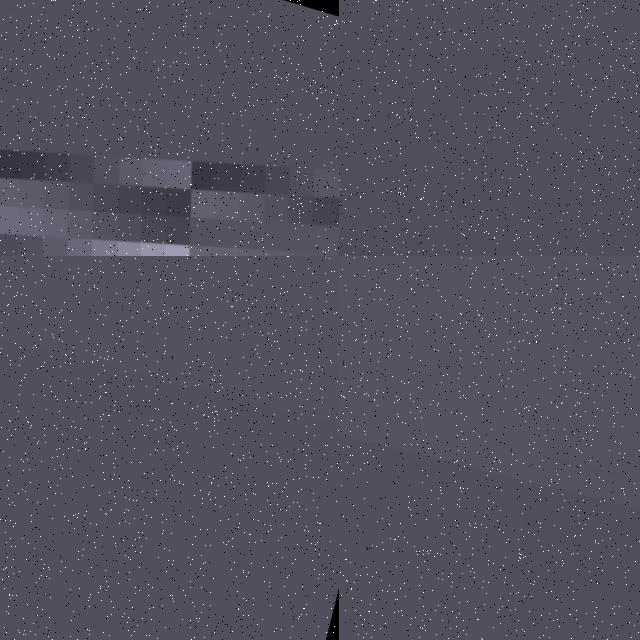drone: (0, 0, 339, 256)
